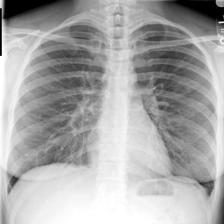normal: (3, 17, 221, 203)
